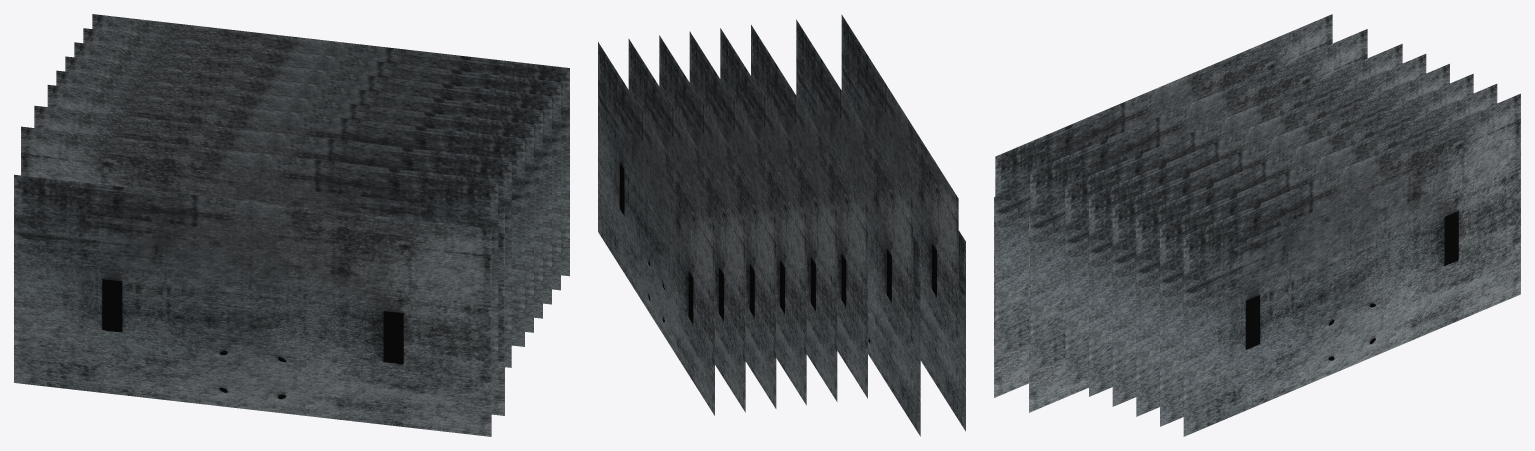
The model's file is store_63.obj.
3 views of the same model, side by side, from view 1: azimuth 30°, elevation 25°; view 2: azimuth 150°, elevation 25°; view 3: azimuth 270°, elevation 25° (orthographic). The views are drawn at different scales.
Bounding box in the file's own units: 31.32 × 15.87 × 30.91.
